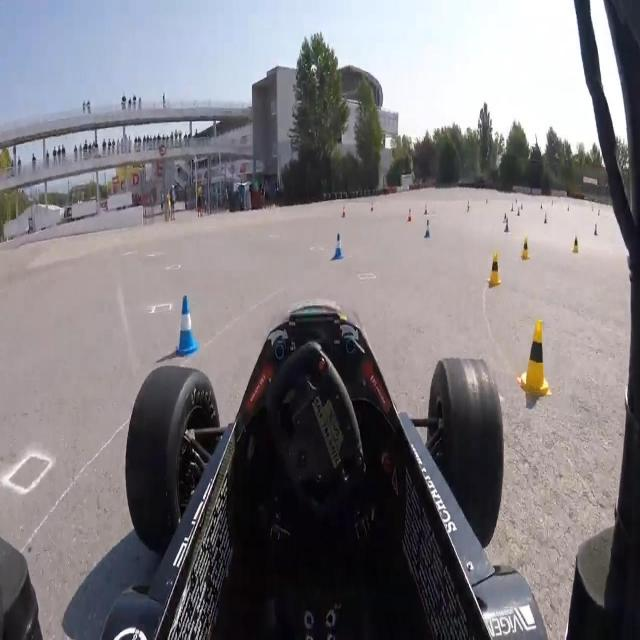blue_cone: (172, 295, 199, 357), (332, 231, 343, 261), (423, 220, 432, 240)
orange_cone: (406, 206, 413, 224), (342, 206, 346, 220)
yellow_cone: (516, 317, 552, 398), (488, 252, 502, 288), (522, 236, 530, 261), (572, 233, 580, 254)
